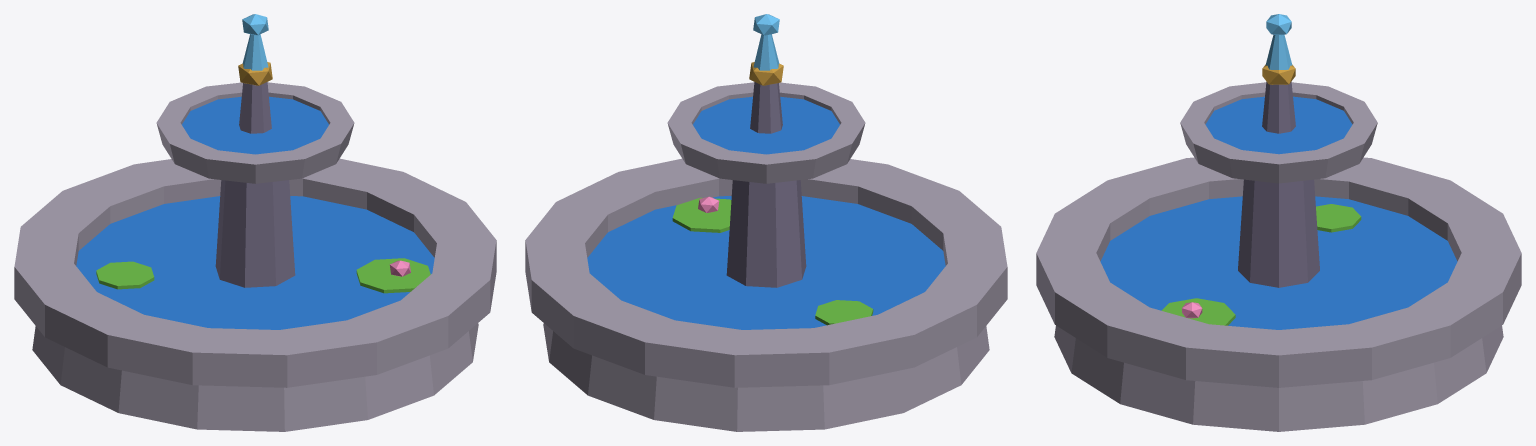
Rendered from fountain.glb.
3 views of the same model, side by side, from view 1: azimuth 30°, elevation 25°; view 2: azimuth 150°, elevation 25°; view 3: azimuth 270°, elevation 25° (orthographic).
Visible parts, largest first — view 1: fountain, water; view 2: fountain, water; view 3: fountain, water.
Part boxes in pixels (x1,y1,x2,y2): fountain: (14, 14, 496, 431); water: (76, 96, 434, 329); fountain: (525, 14, 1007, 431); water: (587, 96, 945, 329); fountain: (1036, 14, 1521, 431); water: (1100, 96, 1457, 329).
Bounding box in the file's own units: 3.24 × 2.38 × 3.24.
